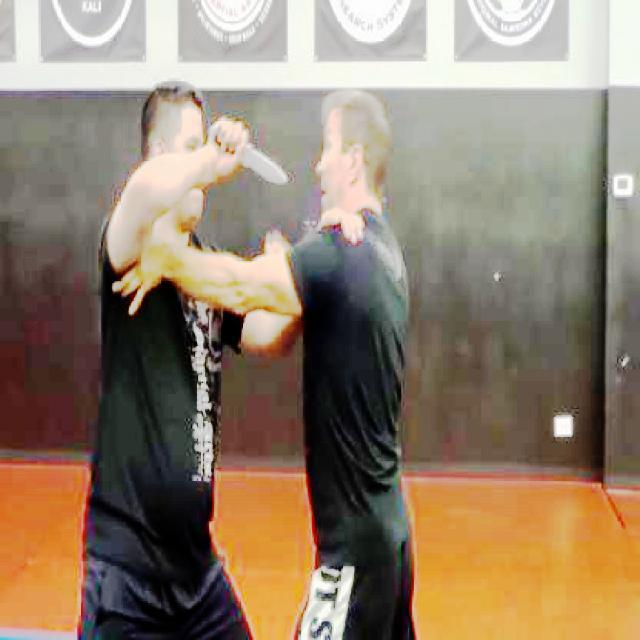Knife: (217, 128, 289, 186)
